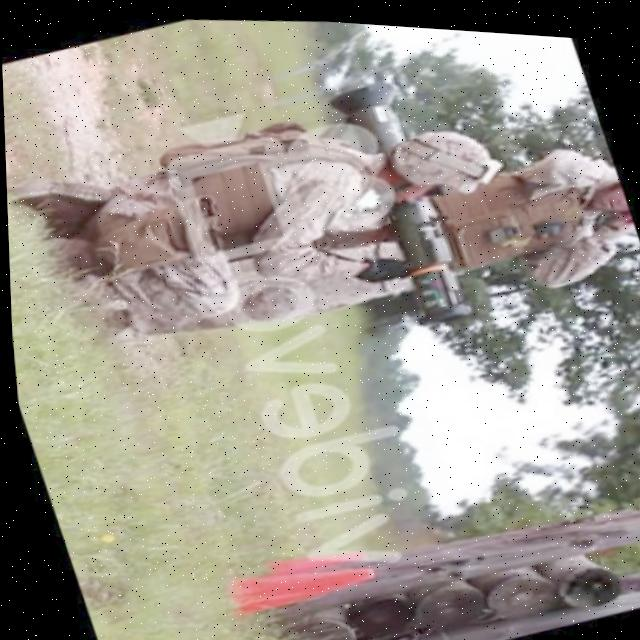rocket: (324, 68, 477, 332)
